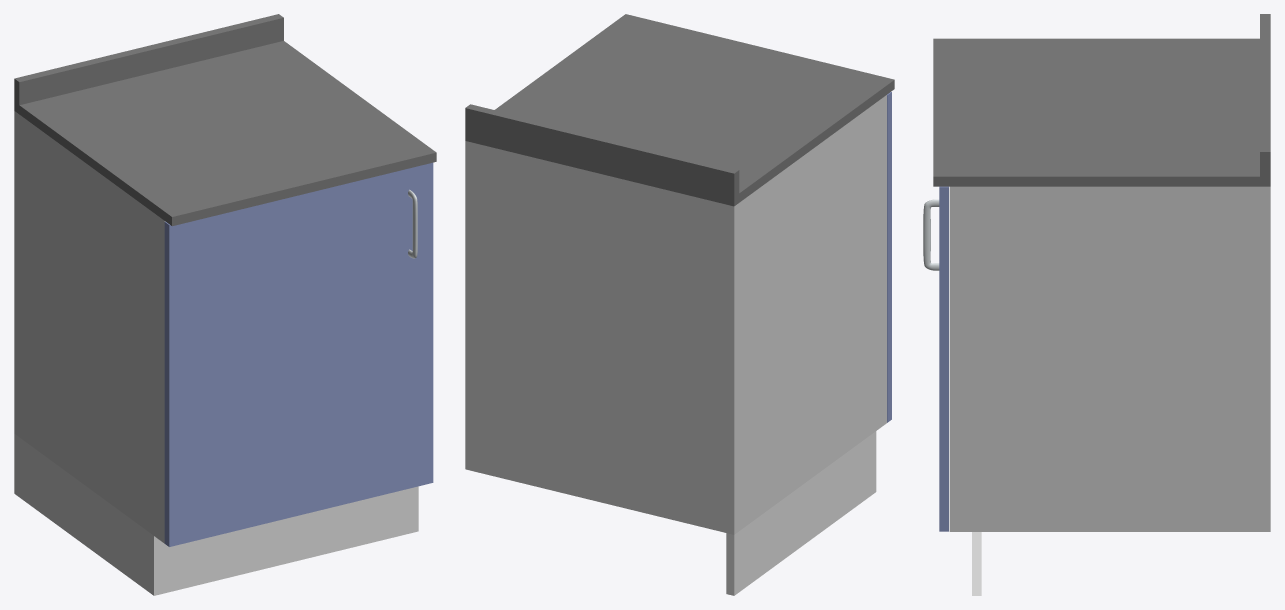
File: Cabinet3.fbx
3 views of the same model, side by side, from view 1: azimuth 30°, elevation 25°; view 2: azimuth 150°, elevation 25°; view 3: azimuth 270°, elevation 25° (orthographic). The views are drawn at different scales.
Parts seen in each view (by area): view 1: Baseboard4.002, Cabinet1_Door; view 2: Baseboard4.002, Cabinet1_Door; view 3: Baseboard4.002, Cabinet1_Door, Handle.
Boxes of the visible parts, x1,y1,x2,y2 form: Baseboard4.002: (14, 14, 436, 595); Cabinet1_Door: (164, 162, 433, 546); Baseboard4.002: (465, 14, 894, 595); Cabinet1_Door: (887, 92, 891, 422); Baseboard4.002: (933, 14, 1270, 595); Cabinet1_Door: (939, 186, 948, 531); Handle: (923, 199, 939, 270).
Bounding box in the file's own units: 60 × 90 × 63.86.
